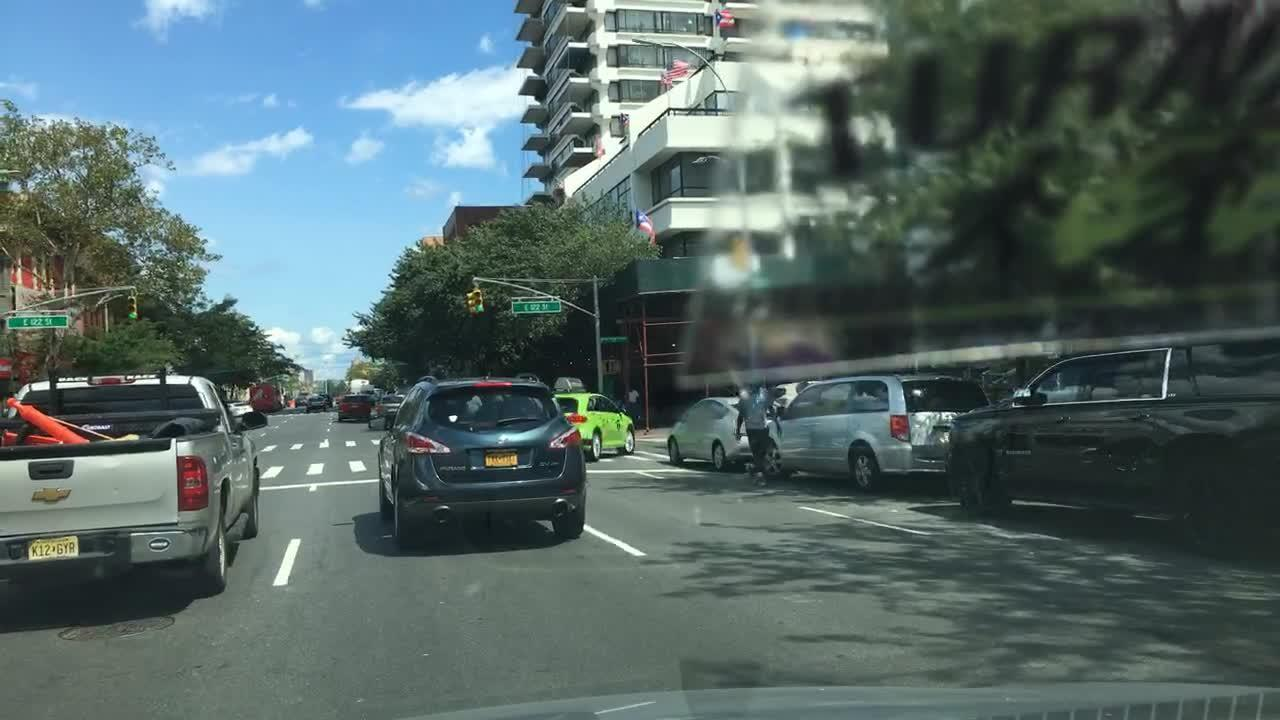chevrolet: (27, 477, 88, 519)
